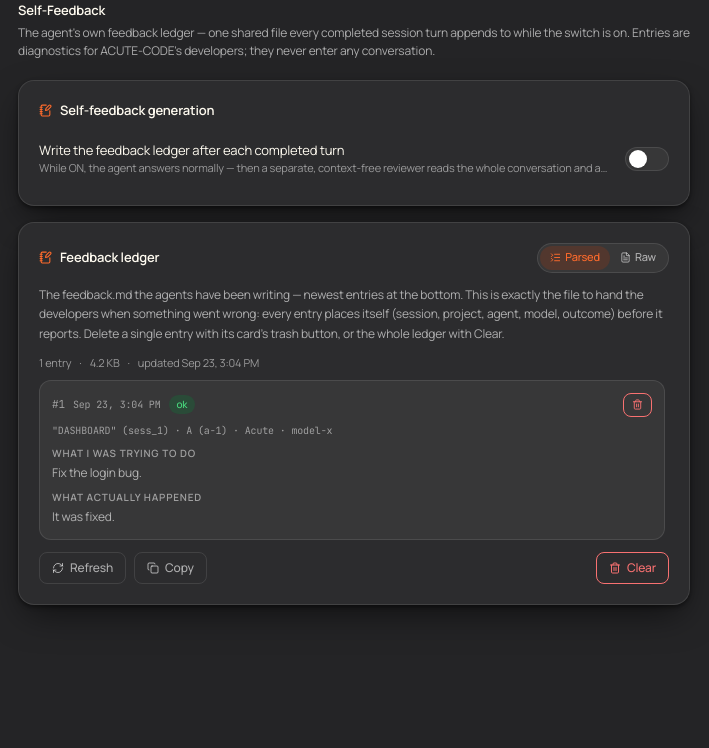
Test: R122: the feedback ledger viewer card › R123: the loaded state — the PARSED view is the DEFAULT (the structured entry card), and the RAW toggle keeps the R122 file-as-is block
Expected: the element with test id "feedback-parsed-list" shows "Fix the login bug.", x1=52 y1=464 x2=142 y2=480
Expected: the element with test id "feedback-parsed-list" shows "It was fixed.", x1=52 y1=508 x2=115 y2=525
Click the tab with test id "feedback-view-raw" at [638, 258], box x1=610 y1=246 x2=666 y2=270
(page scrolled)
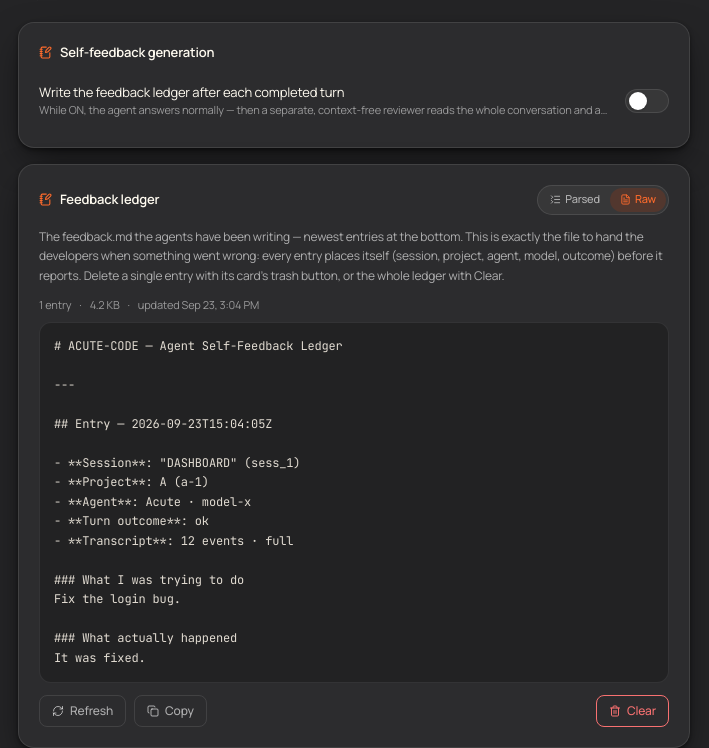
Now the text with test id "feedback-ledger-content" shows "# ACUTE-CODE — Agent Self-Feedback Ledger", box x1=54 y1=338 x2=343 y2=666
Now the text with test id "feedback-ledger-content" shows "## Entry — 2026-09-23T15:04:05Z", box x1=54 y1=338 x2=343 y2=666
Now the text with test id "feedback-ledger-content" shows "### What I was trying to do", box x1=54 y1=338 x2=343 y2=666
